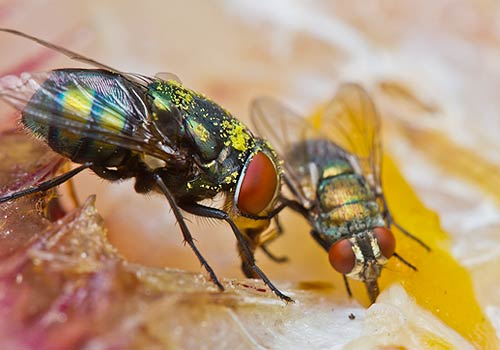fly: (1, 24, 301, 307), (248, 83, 431, 304)
